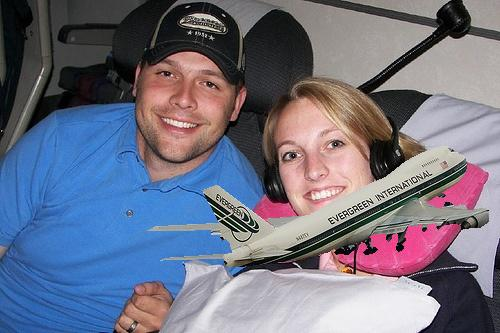tampered: (148, 147, 489, 267)
